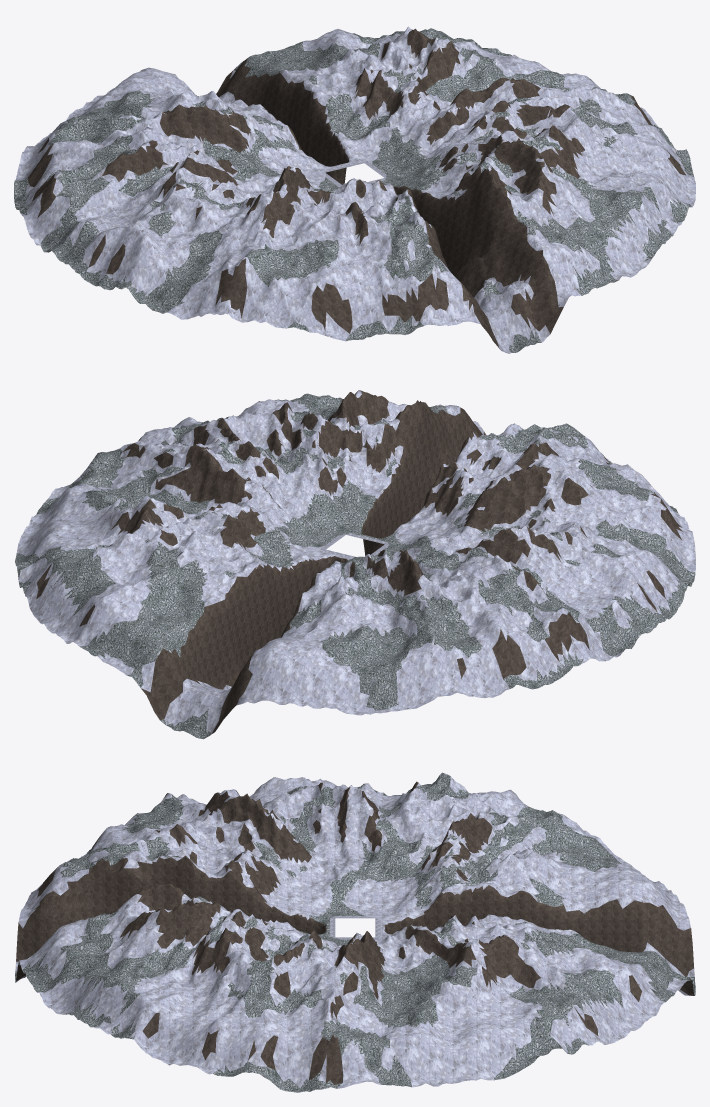
File: backdrop_near_rect_weald_winter.glb
3 views of the same model, one above another, from view 1: azimuth 30°, elevation 25°; view 2: azimuth 150°, elevation 25°; view 3: azimuth 270°, elevation 25° (orthographic).
Visible parts, largest first — view 1: near_land_S, near_land_W, near_land_E, near_land_N; view 2: near_land_N, near_land_W, near_land_E, near_land_S; view 3: near_land_E, near_land_S, near_land_N, near_land_W.
Part boxes in pixels (x1,y1,x2,y2): near_land_S: (266, 128, 683, 353); near_land_W: (14, 104, 338, 322); near_land_E: (357, 28, 695, 220); near_land_N: (25, 26, 434, 184); near_land_N: (27, 513, 443, 739); near_land_W: (375, 464, 695, 698); near_land_E: (15, 399, 355, 596); near_land_S: (275, 390, 679, 555); near_land_E: (115, 912, 596, 1092); near_land_S: (15, 814, 329, 1037); near_land_N: (378, 815, 695, 1044); near_land_W: (136, 772, 594, 920).
Bounding box in the file's own units: 576 × 168 × 577.
Materials: 4 (4 with a texture image).
